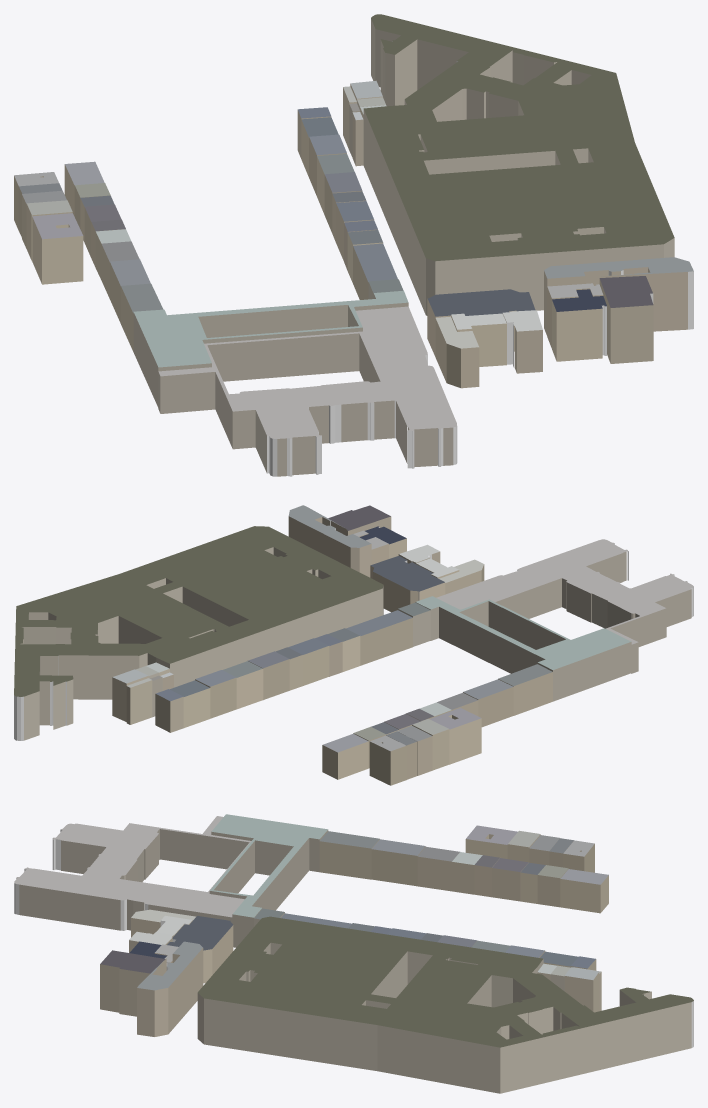
3 views of the same model, one above another, from view 1: azimuth 30°, elevation 25°; view 2: azimuth 150°, elevation 25°; view 3: azimuth 270°, elevation 25° (orthographic). The views are drawn at different scales.
Parts seen in each view (by area): view 1: tuile; view 2: tuile; view 3: tuile.
Boxes of the visible parts, bbox=[...] form: tuile: bbox=[14, 14, 693, 476]; tuile: bbox=[14, 505, 693, 785]; tuile: bbox=[14, 814, 693, 1093].
Bounding box in the file's own units: 311 × 28.77 × 360.
